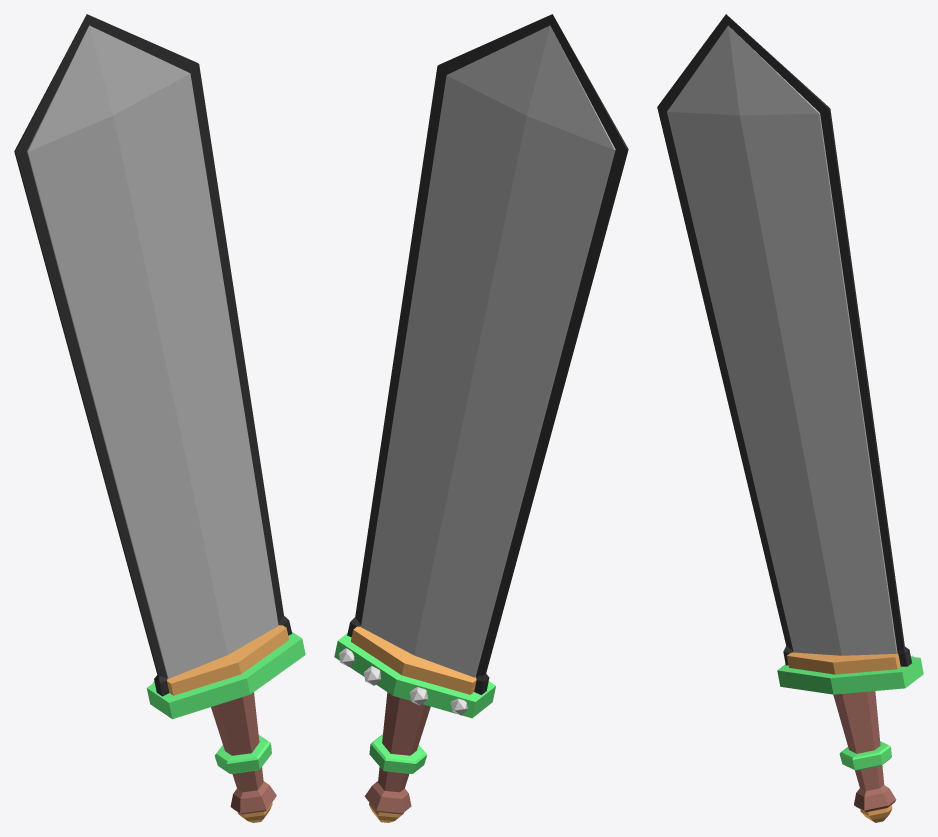
File: Sword.fbx
3 views of the same model, side by side, from view 1: azimuth 30°, elevation 25°; view 2: azimuth 150°, elevation 25°; view 3: azimuth 330°, elevation 25° (orthographic). The views are drawn at different scales.
Visible parts, largest first — view 1: Sword; view 2: Sword; view 3: Sword.
Boxes of the visible parts, x1,y1,x2,y2 form: Sword: (14,14,305,822); Sword: (334,14,628,822); Sword: (657,14,923,822).
Size of the model in its own units: 762 by 2190 by 217.
